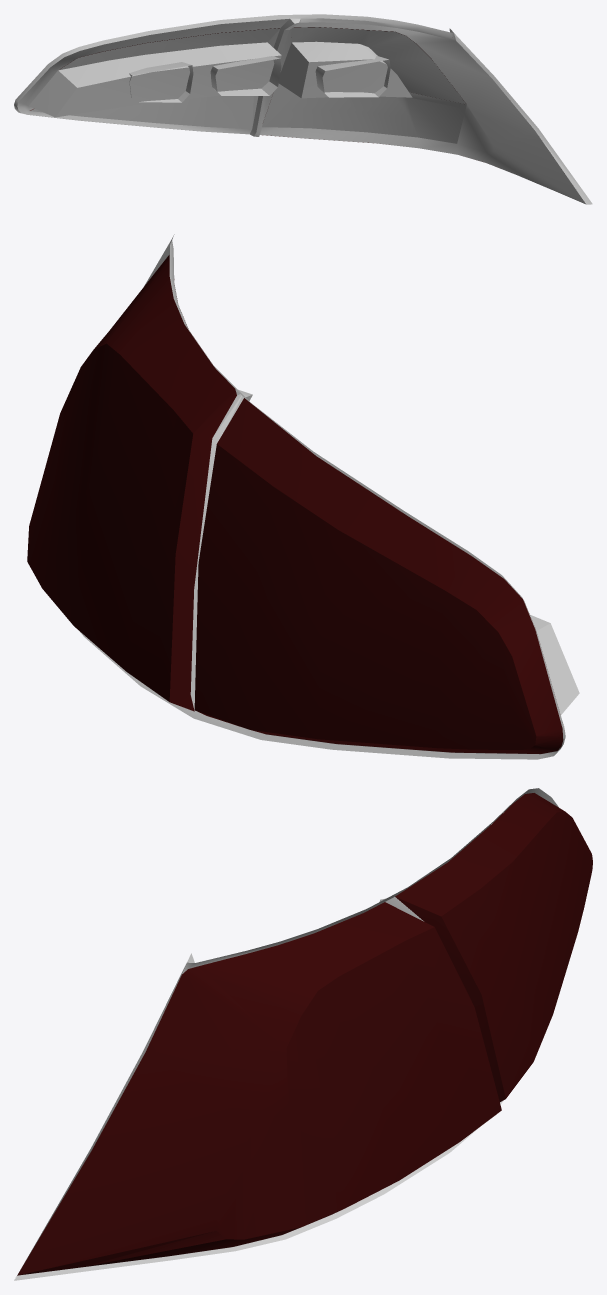
The picture shows the model from 3 angles, top to bottom: view 1: azimuth 30°, elevation 25°; view 2: azimuth 150°, elevation 25°; view 3: azimuth 270°, elevation 25°; orthographic projection. The views are drawn at different scales.
Visible parts, largest first — view 1: SubMesh0002; view 2: SubMesh0002; view 3: SubMesh0002.
Boxes of the visible parts, bbox=[...] form: SubMesh0002: bbox=[14, 14, 592, 204]; SubMesh0002: bbox=[27, 234, 579, 759]; SubMesh0002: bbox=[14, 788, 592, 1280].
Size of the model in its own units: 0.4352 by 0.1631 by 0.3323.
